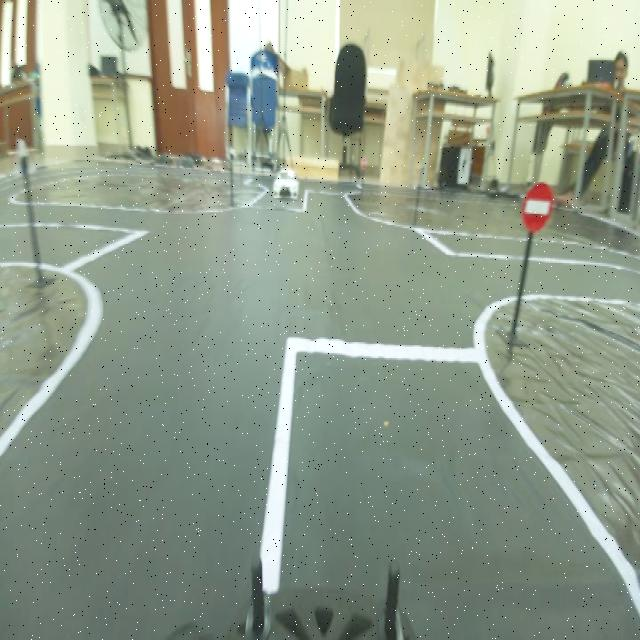no_entry: (517, 173, 560, 247)
